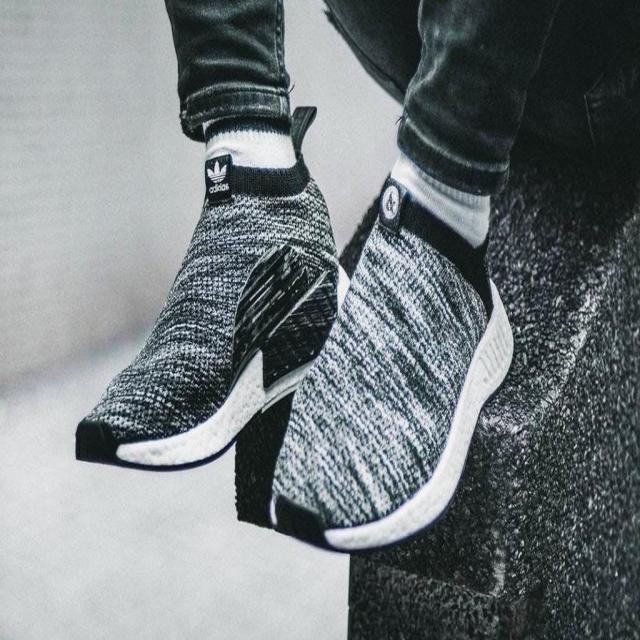shoe: (72, 125, 336, 471), (266, 190, 512, 555)
